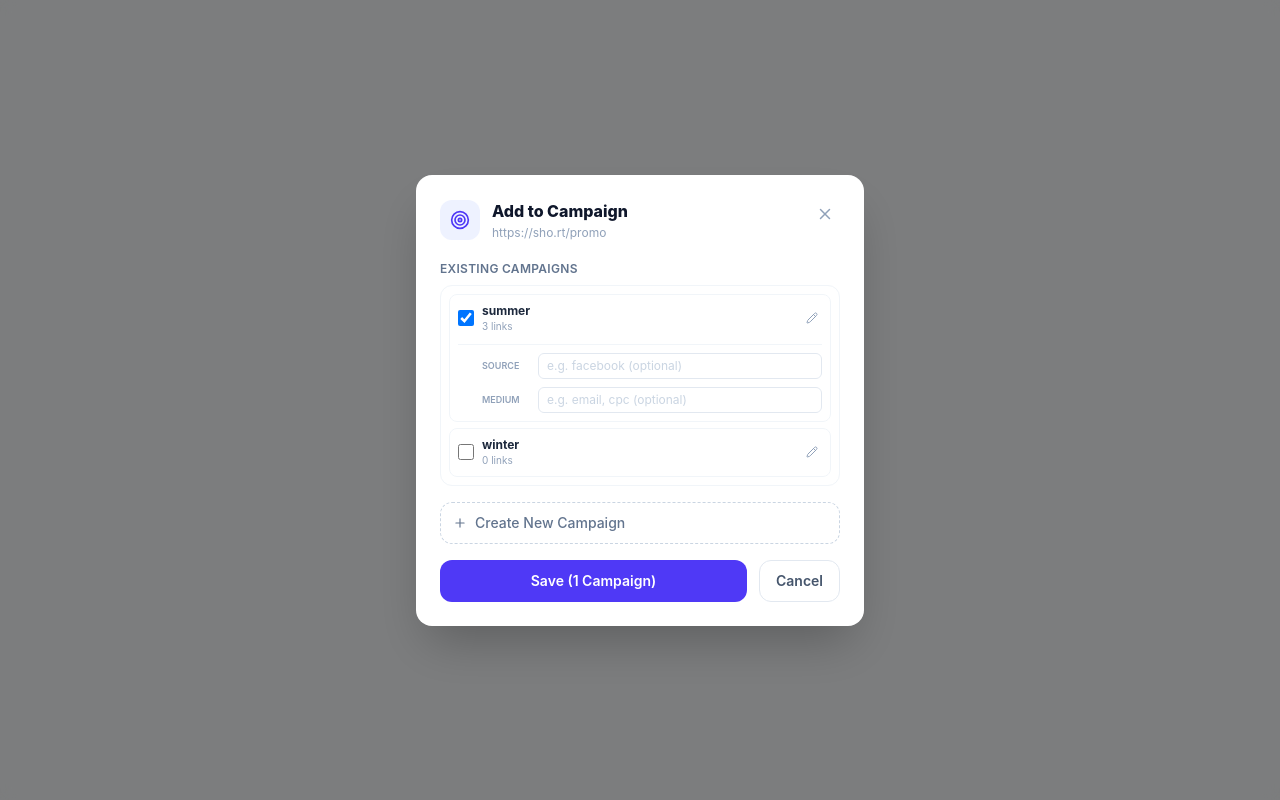
Test: AddToCampaignModal - saving assignments › shows the server message when the save is refused
Click the button "Save (1 Campaign)". click: click(594, 580)
box: [440, 560, 747, 602]
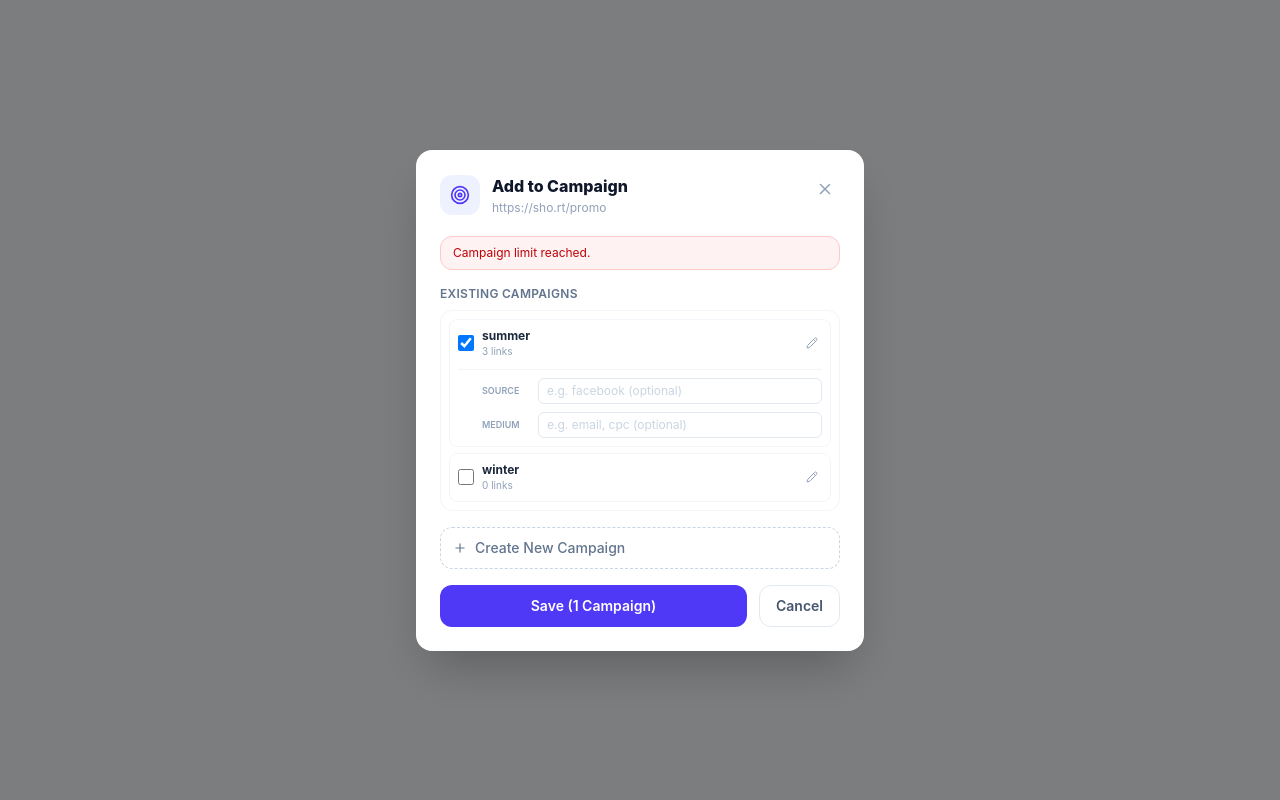
Check: the text "Campaign limit reached." is shown, box [440, 236, 840, 270]
